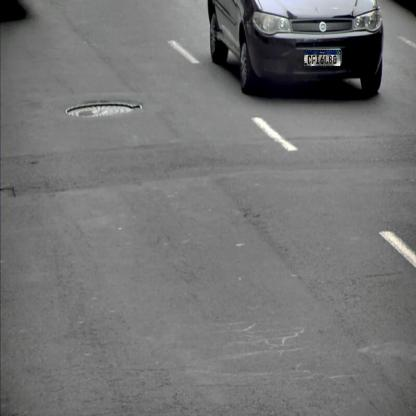PlacaM: (304, 50, 341, 66)
